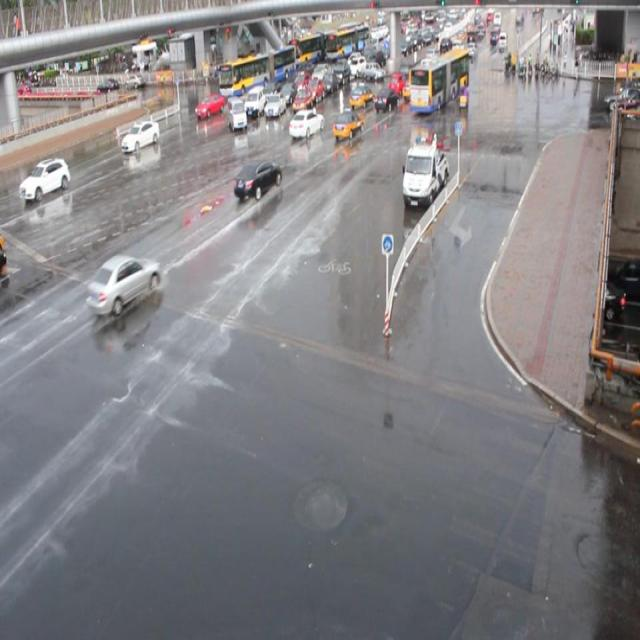bus: (402, 139, 449, 207)
car: (86, 254, 161, 314), (20, 157, 70, 201), (232, 158, 281, 200), (121, 119, 160, 152), (288, 108, 324, 140), (332, 108, 364, 140), (194, 91, 224, 119), (373, 85, 398, 112), (348, 82, 374, 106), (292, 88, 313, 115), (265, 93, 287, 118), (266, 75, 288, 98), (401, 74, 420, 100), (304, 78, 324, 102), (279, 81, 298, 104), (388, 72, 406, 96), (291, 73, 311, 94)
truck: (245, 86, 268, 118), (226, 95, 246, 131)
van: (218, 45, 296, 100), (408, 49, 469, 112)
